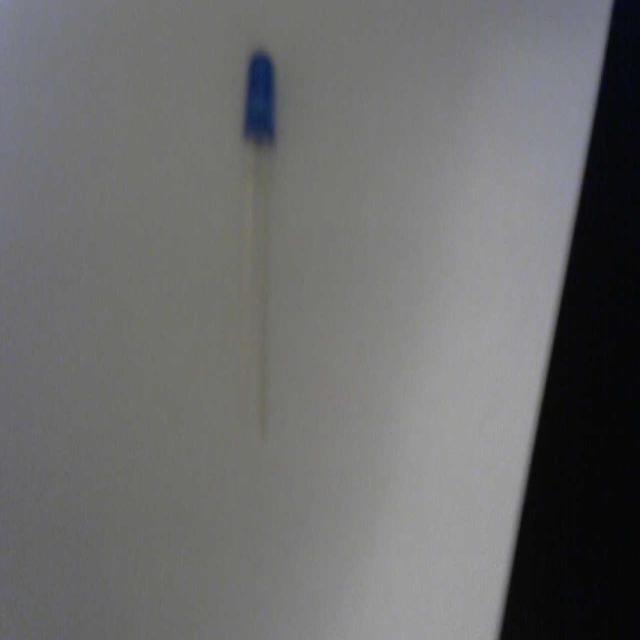blue_led: (242, 49, 276, 146)
